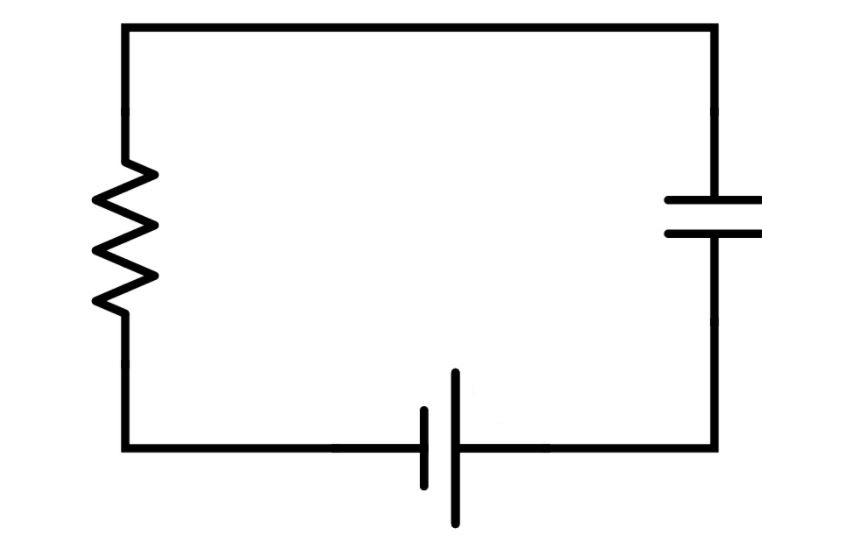resistor: (65, 114, 189, 356)
